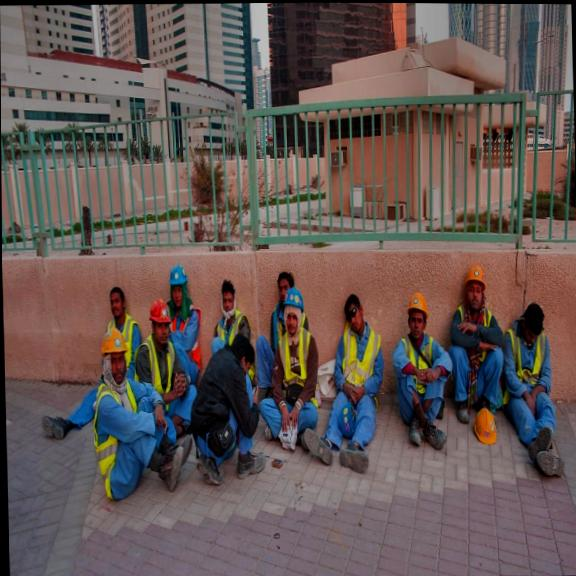safety_vest: (507, 322, 549, 411), (274, 326, 316, 400), (342, 326, 380, 403), (398, 333, 436, 400), (144, 328, 174, 397)
